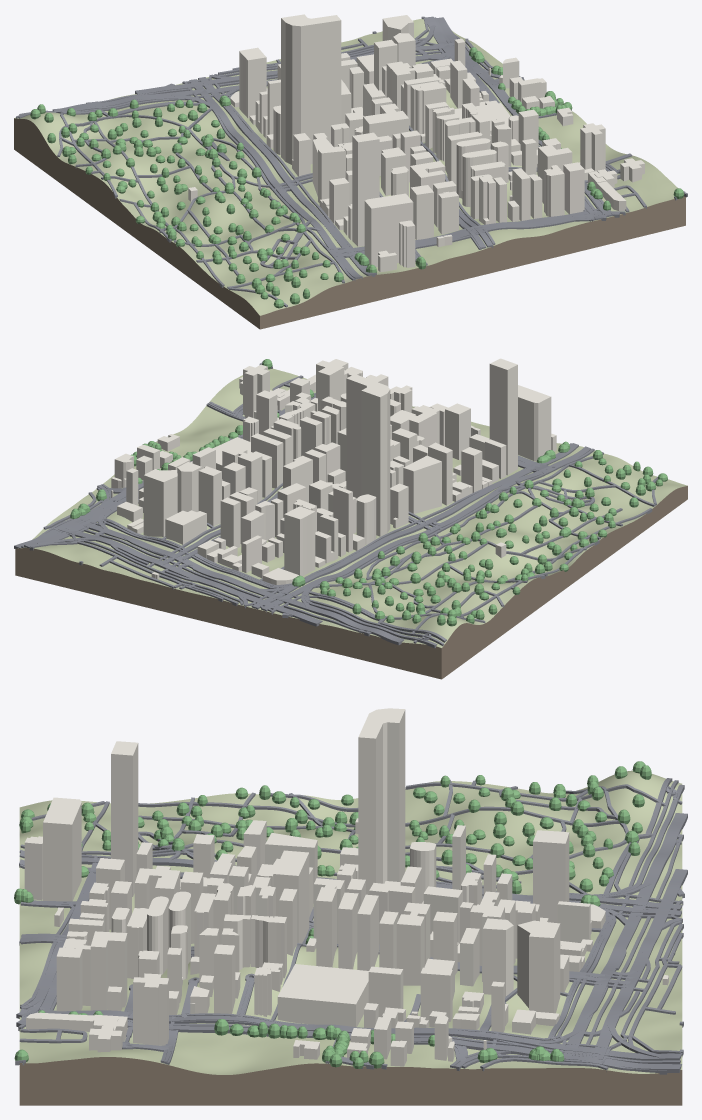
The model's file is quito-ecuador (2).glb.
3 renders of one model, top to bottom at view 1: azimuth 30°, elevation 25°; view 2: azimuth 150°, elevation 25°; view 3: azimuth 270°, elevation 25°, orthographic. The views are drawn at different scales.
Visible parts, largest first — view 1: Buildings, Terrain, Roads, Base, Trees; view 2: Buildings, Terrain, Roads, Base, Trees; view 3: Buildings, Terrain, Roads, Base, Trees.
Boxes of the visible parts, x1,y1,x2,y2 form: Buildings: [188, 14, 644, 271]; Terrain: [14, 18, 677, 315]; Roads: [16, 16, 687, 307]; Base: [14, 118, 685, 329]; Trees: [30, 47, 684, 308]; Buildings: [111, 358, 556, 584]; Terrain: [18, 368, 687, 647]; Roads: [14, 361, 657, 648]; Base: [15, 486, 687, 679]; Trees: [70, 359, 667, 626]; Buildings: [24, 708, 668, 1066]; Terrain: [19, 770, 682, 1074]; Roads: [15, 778, 687, 1074]; Base: [19, 1057, 682, 1105]; Trees: [14, 761, 651, 1068].
Size of the model in its own units: 650 by 240 by 652.
